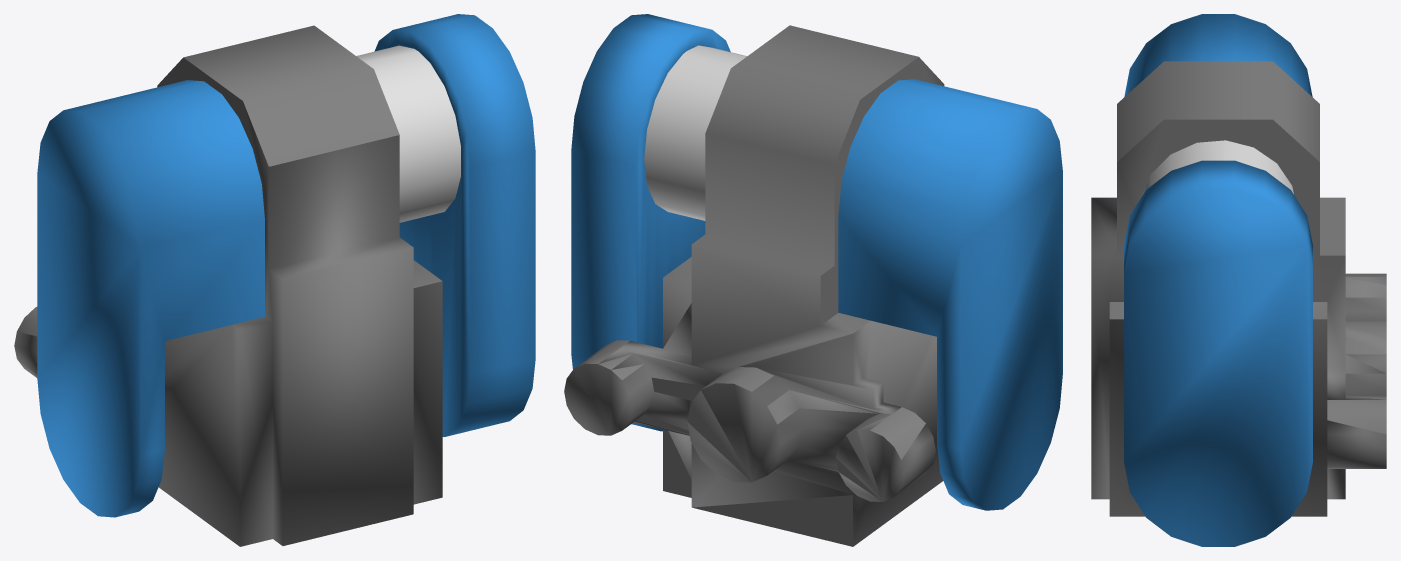
The model's file is R_WRIST_P.dae.
3 renders of one model, left to right at view 1: azimuth 30°, elevation 25°; view 2: azimuth 150°, elevation 25°; view 3: azimuth 270°, elevation 25°, orthographic. The views are drawn at different scales.
Parts seen in each view (by area): view 1: ShapeIndexedFaceS_117, ShapeIndexedFaceS_125, ShapeIndexedFaceS_127, ShapeIndexedFaceS_126; view 2: ShapeIndexedFaceS_117, ShapeIndexedFaceS_127, ShapeIndexedFaceS_125, ShapeIndexedFaceS_126; view 3: ShapeIndexedFaceS_117, ShapeIndexedFaceS_125, ShapeIndexedFaceS_127, ShapeIndexedFaceS_126.
Part boxes in pixels (box(x1,y1,x2,y2)): ShapeIndexedFaceS_117: box(37, 14, 535, 517); ShapeIndexedFaceS_125: box(14, 57, 442, 546); ShapeIndexedFaceS_127: box(17, 25, 442, 336); ShapeIndexedFaceS_126: box(356, 45, 460, 222); ShapeIndexedFaceS_117: box(571, 14, 1062, 510); ShapeIndexedFaceS_127: box(575, 25, 925, 546); ShapeIndexedFaceS_125: box(564, 57, 944, 546); ShapeIndexedFaceS_126: box(644, 45, 746, 220); ShapeIndexedFaceS_117: box(1124, 14, 1312, 546); ShapeIndexedFaceS_125: box(1091, 119, 1386, 516); ShapeIndexedFaceS_127: box(1109, 61, 1386, 434); ShapeIndexedFaceS_126: box(1141, 140, 1293, 196).
Bounding box in the file's own units: 0.0573 × 0.0406 × 0.0577.
